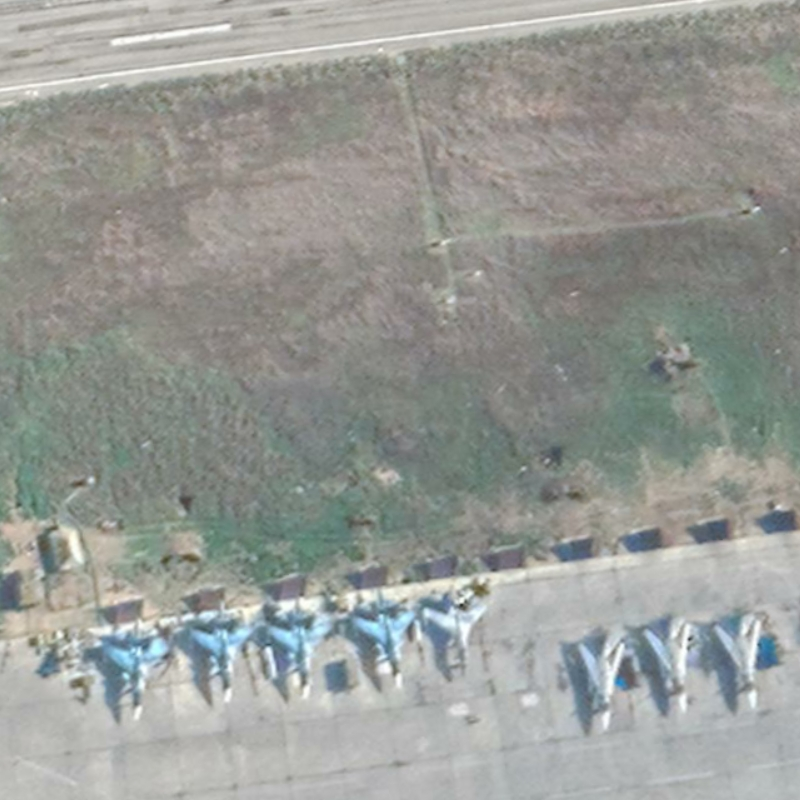A1: (420, 582, 494, 682)
A19: (260, 598, 339, 704), (98, 618, 174, 724), (183, 611, 261, 707), (346, 592, 420, 691)
A20: (573, 631, 632, 732), (711, 611, 765, 715), (642, 615, 695, 717)
